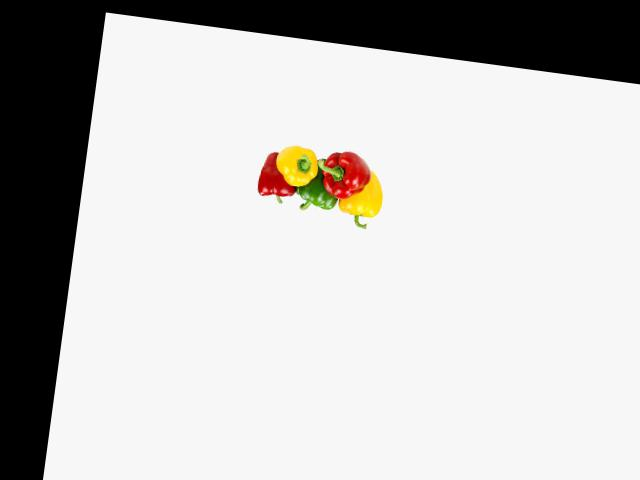bell_pepper: (252, 156, 299, 206)
